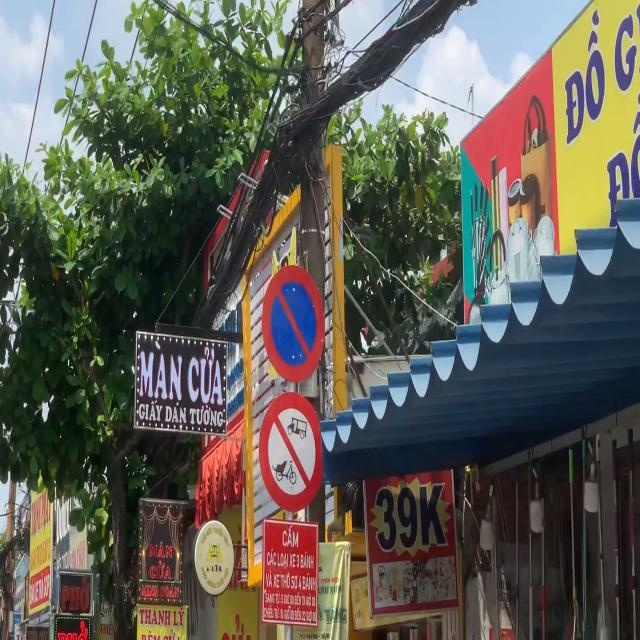bien_cam: (262, 264, 326, 383)
